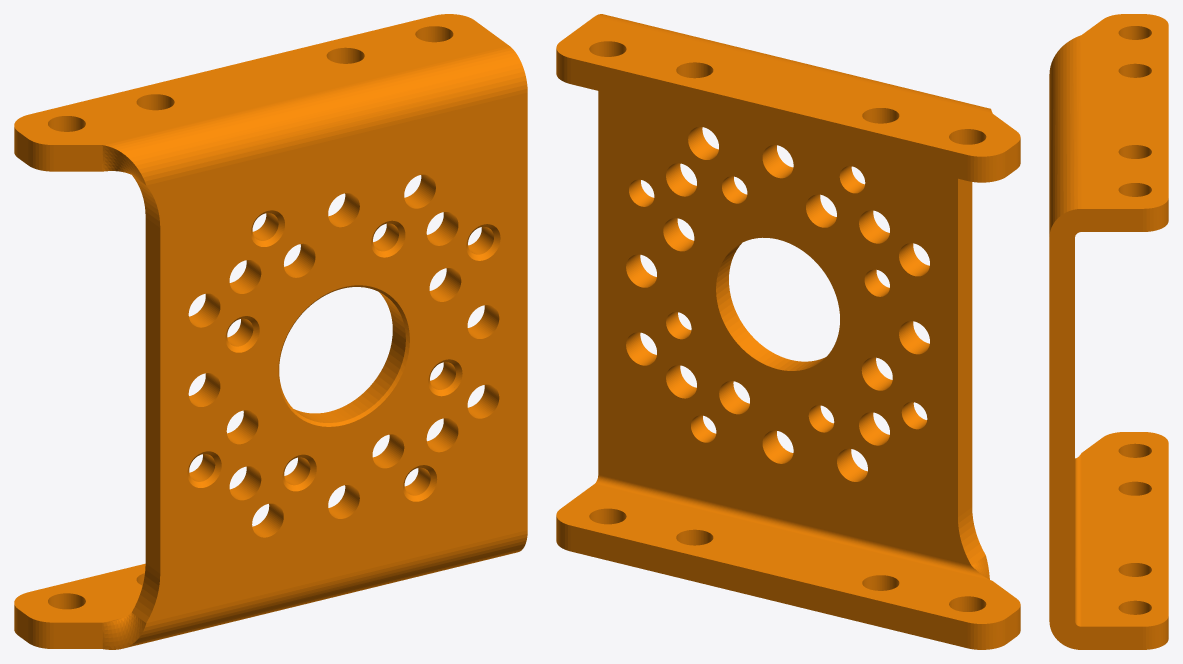
3 renders of one model, left to right at view 1: azimuth 30°, elevation 25°; view 2: azimuth 150°, elevation 25°; view 3: azimuth 270°, elevation 25°, orthographic. The views are drawn at different scales.
Visible parts, largest first — view 1: 5e6fb10683afe215727891e2; view 2: 5e6fb10683afe215727891e2; view 3: 5e6fb10683afe215727891e2.
Part boxes in pixels (<box>): 5e6fb10683afe215727891e2: <box>14,14,527,649</box>; 5e6fb10683afe215727891e2: <box>556,14,1020,649</box>; 5e6fb10683afe215727891e2: <box>1049,14,1168,649</box>.
Size of the model in its own units: 0.036 by 0.0093 by 0.038.
